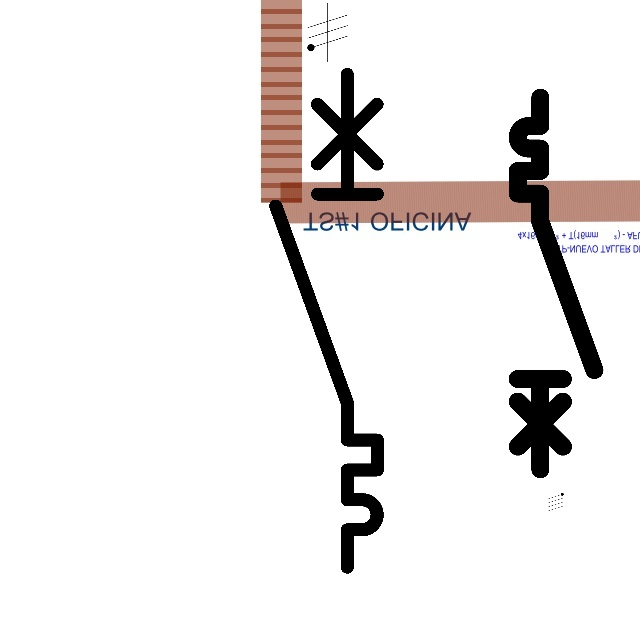interruptor_termomagnetico: (263, 61, 390, 580), (508, 88, 603, 479)
